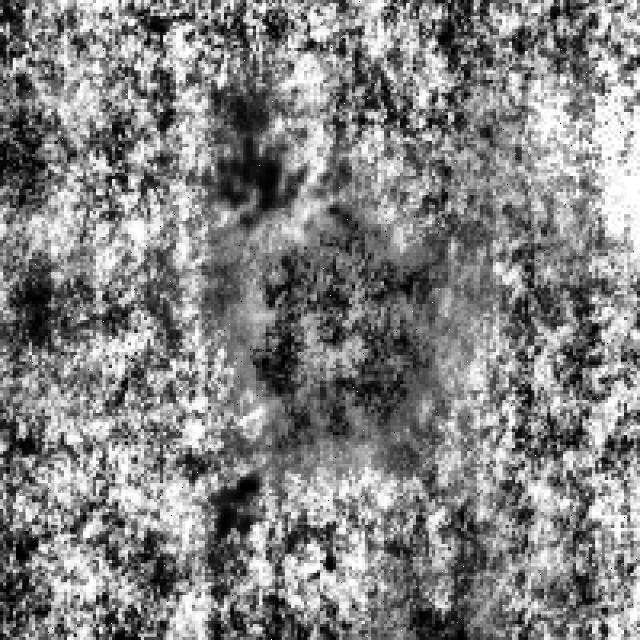Scratches: (204, 208, 442, 438)
